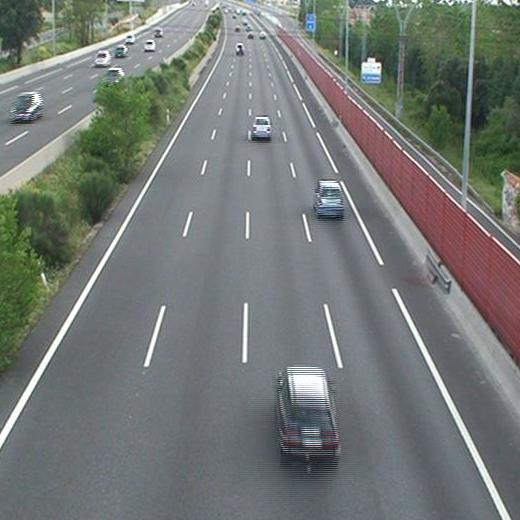car: (277, 368, 338, 453), (314, 181, 344, 216), (253, 117, 271, 136), (235, 44, 244, 53)
